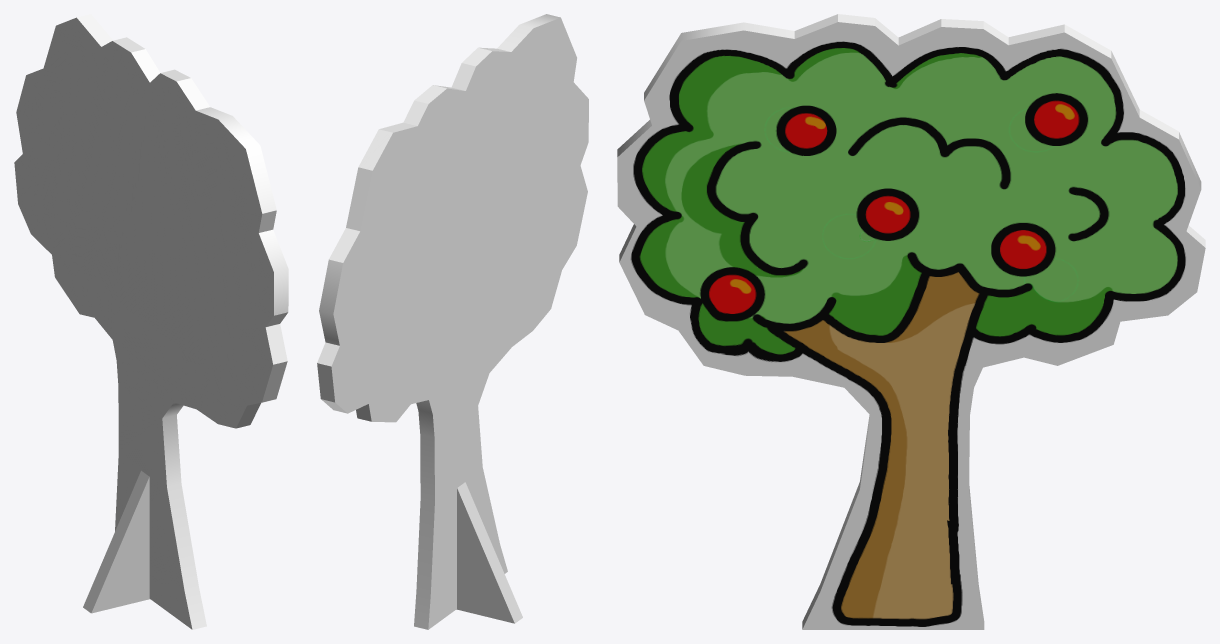
File: tree 2 apples.fbx
3 renders of one model, left to right at view 1: azimuth 30°, elevation 25°; view 2: azimuth 150°, elevation 25°; view 3: azimuth 270°, elevation 25°, orthographic. The views are drawn at different scales.
Parts seen in each view (by area): view 1: pCube17, pCube40; view 2: pCube17, pCube40; view 3: pCube17.
Part boxes in pixels (box(x1,y1,x2,y2)): pCube17: box(14, 14, 288, 629); pCube40: box(83, 470, 149, 613); pCube17: box(317, 14, 588, 629); pCube40: box(456, 482, 522, 623); pCube17: box(617, 14, 1205, 629).
Bounding box in the file's own units: 2.5 × 17.67 × 15.48.
